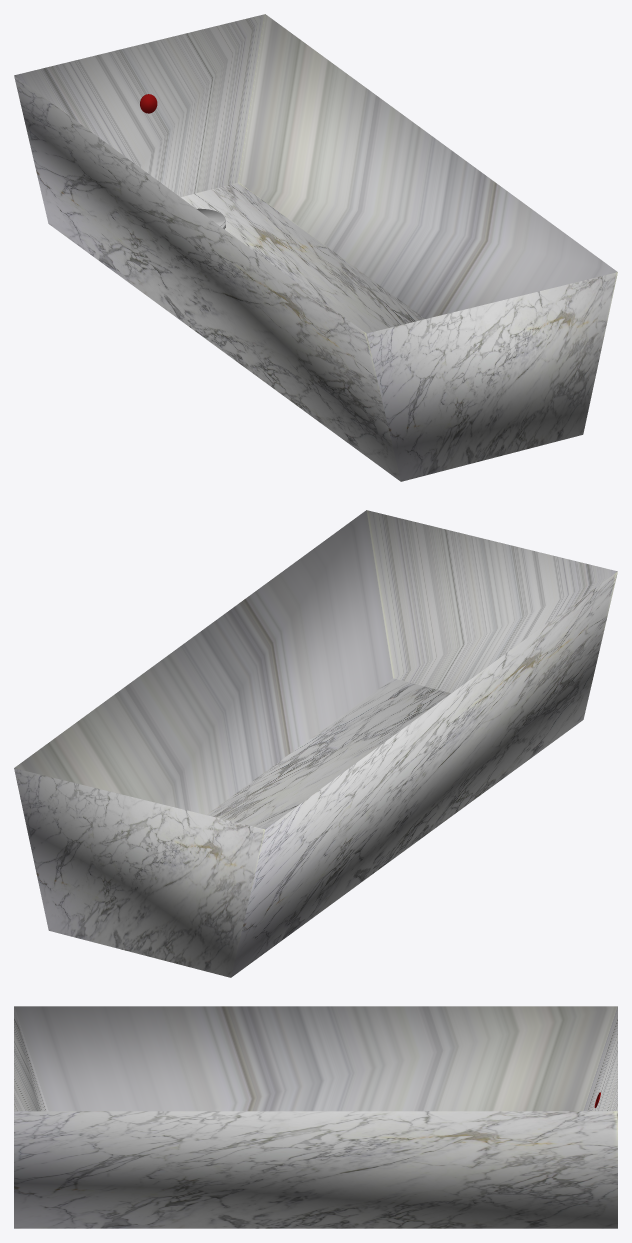
File: Bathtub.obj
3 views of the same model, one above another, from view 1: azimuth 30°, elevation 25°; view 2: azimuth 150°, elevation 25°; view 3: azimuth 270°, elevation 25° (orthographic). The views are drawn at different scales.
Parts seen in each view (by area): view 1: BathTub; view 2: BathTub; view 3: BathTub.
Part boxes in pixels (x1,y1,x2,y2): BathTub: (14,14,617,481); BathTub: (14,510,617,977); BathTub: (14,1006,617,1228).
Size of the model in its own units: 27.56 by 16.43 by 66.93.
